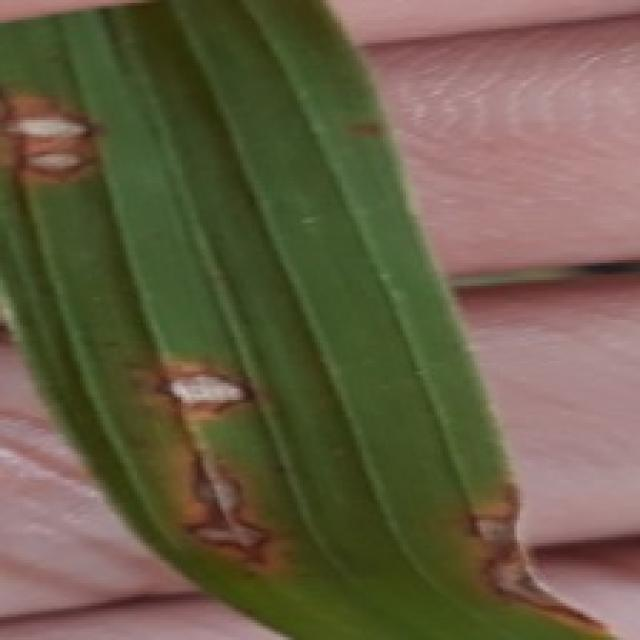Unhealthy: (455, 480, 612, 636), (174, 442, 284, 574), (122, 355, 271, 429), (0, 88, 105, 186), (346, 115, 383, 139)
